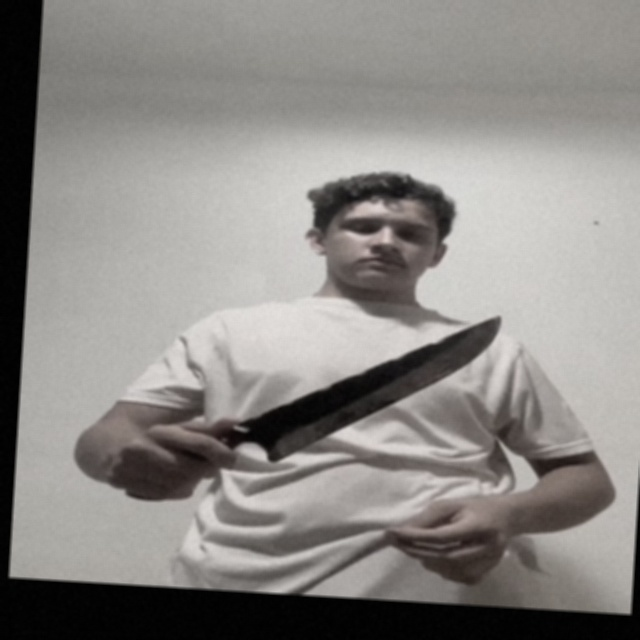Sharp-Object: (242, 301, 499, 469)
